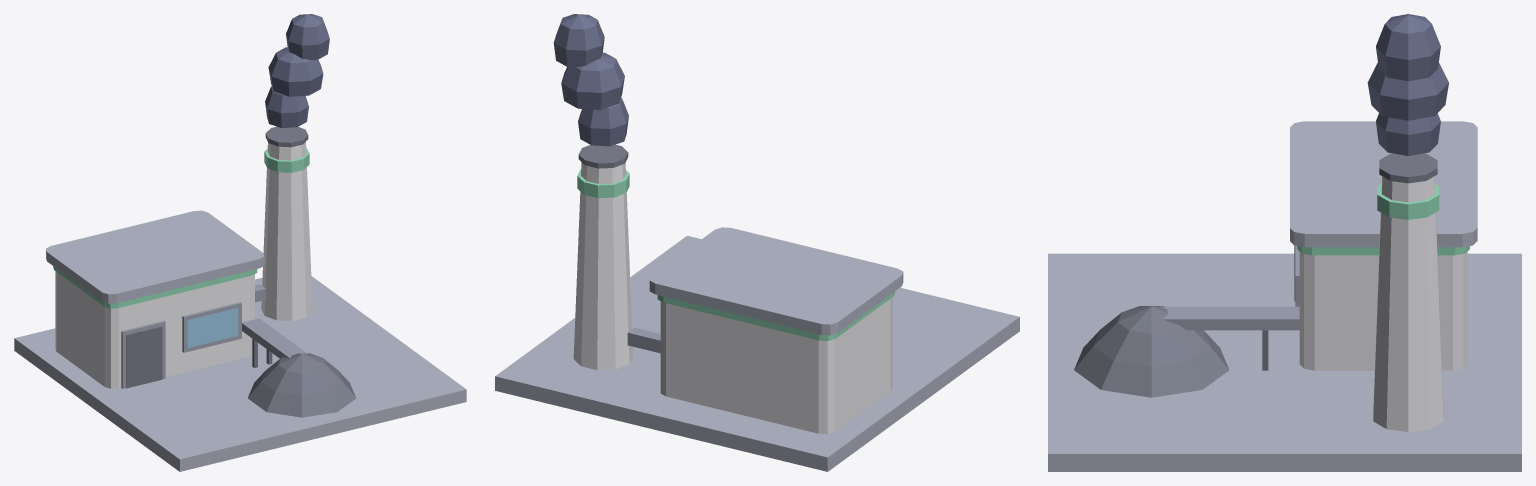
File: coal-1x1-t1-tone-a.glb
The picture shows the model from 3 angles, left to right: view 1: azimuth 30°, elevation 25°; view 2: azimuth 150°, elevation 25°; view 3: azimuth 270°, elevation 25°; orthographic projection. The views are drawn at different scales.
Visible parts, largest first — view 1: coal-1x1-t1-tone-a; view 2: coal-1x1-t1-tone-a; view 3: coal-1x1-t1-tone-a.
Part boxes in pixels (<box>): coal-1x1-t1-tone-a: <box>14,14,466,471</box>; coal-1x1-t1-tone-a: <box>495,14,1019,471</box>; coal-1x1-t1-tone-a: <box>1048,14,1521,471</box>.
Bounding box in the file's own units: 0.96 × 0.97 × 0.96.
Materials: 1 (1 with a texture image).
